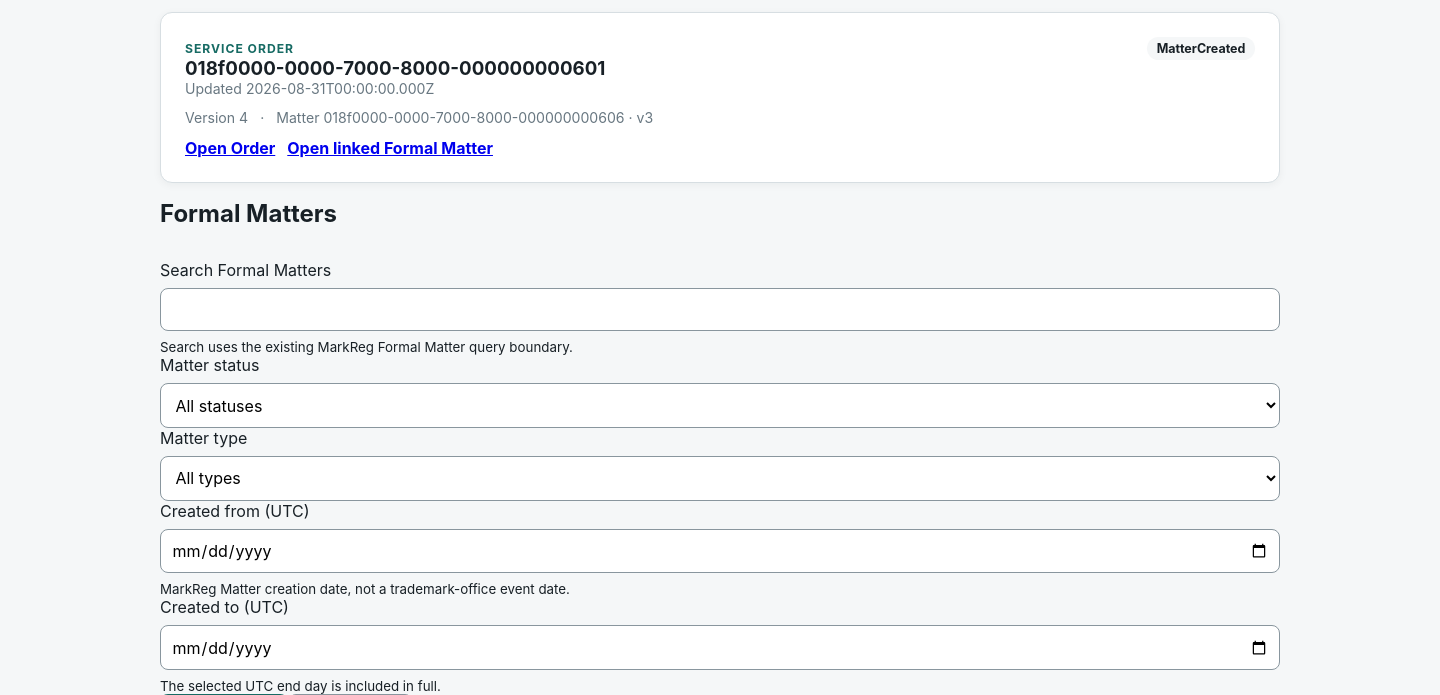
Test: MarkReg durable Workspace Home › applies bounded Matter filters without reloading Service Orders and distinguishes filtered empty
The width and height of the screenshot is (1440, 695).
(page scrolled)
Type " orbit " into the field labelled "Search Formal Matters" at (720, 310), box 160,288 -> 1280,331
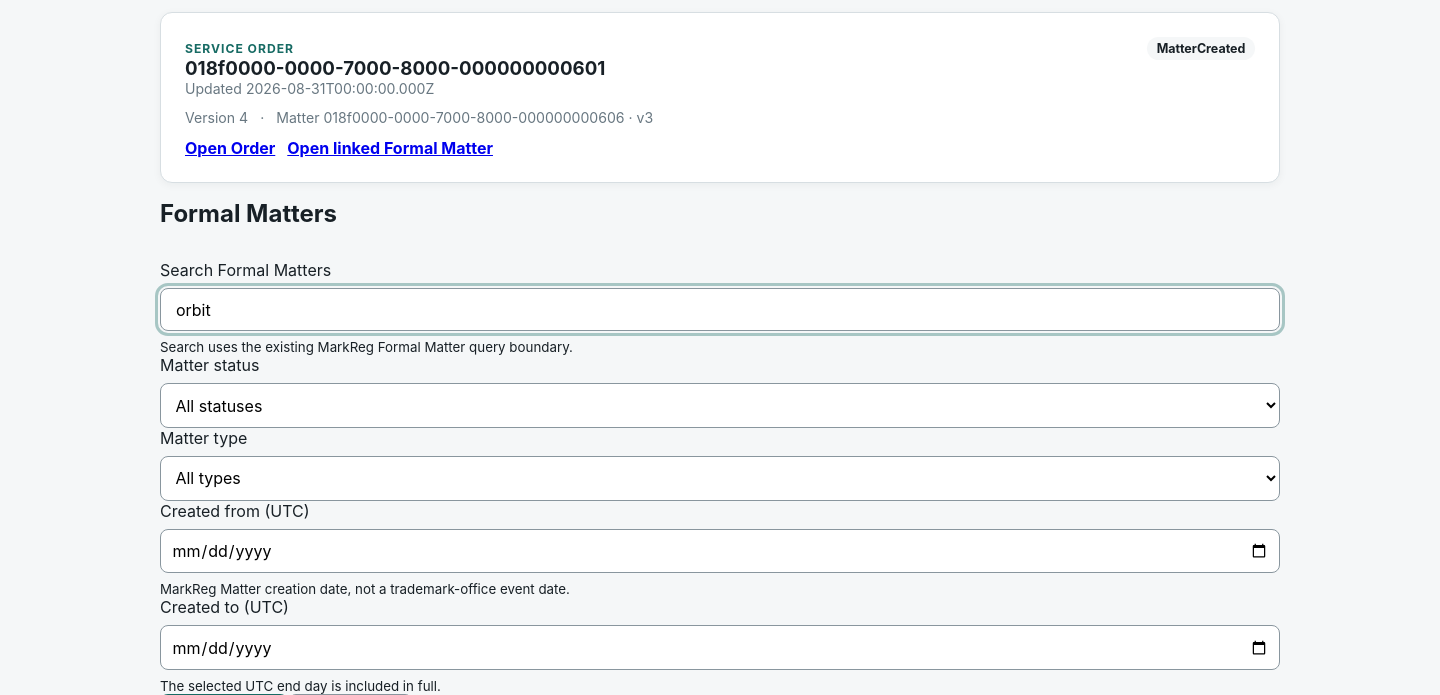
Select "Open" in the dropdown labelled "Matter status" at (720, 406), box 160,383 -> 1280,428
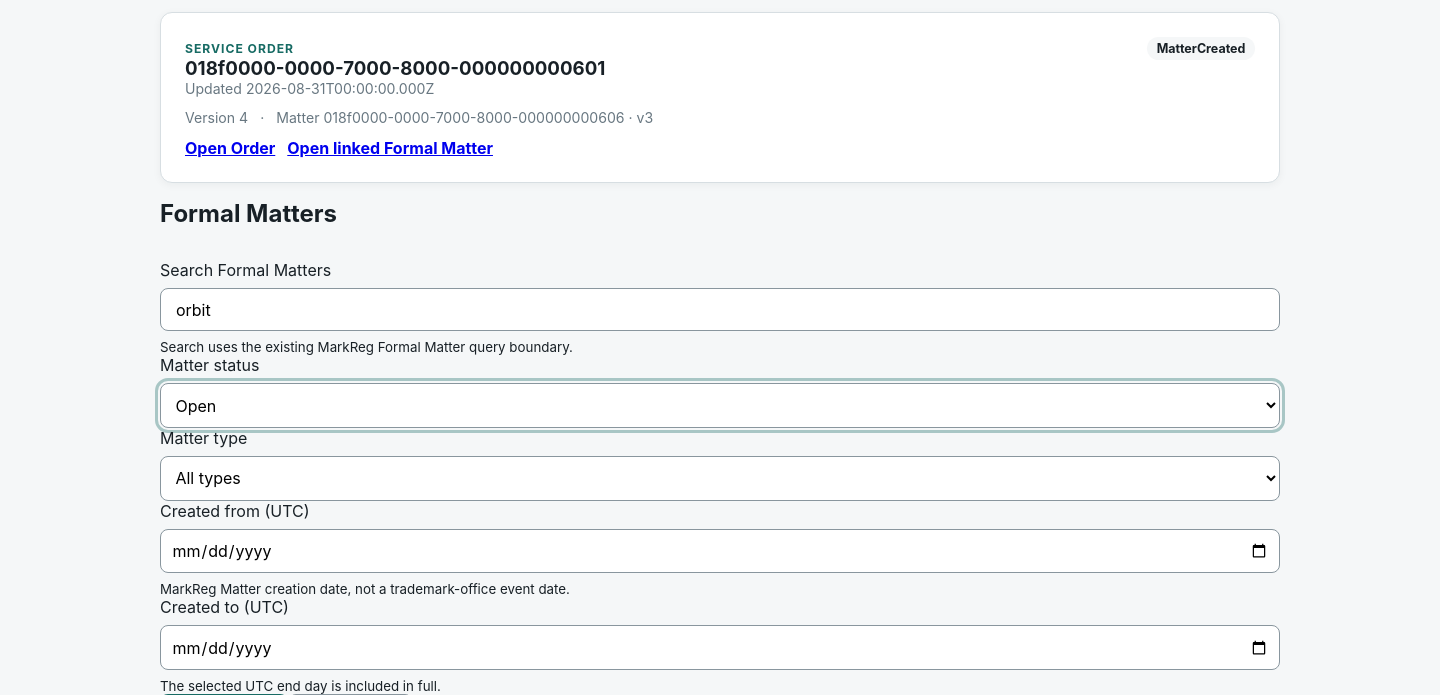
Select "Trademark registration" in the dropdown labelled "Matter type" at (720, 478), box 160,456 -> 1280,501
(page scrolled)
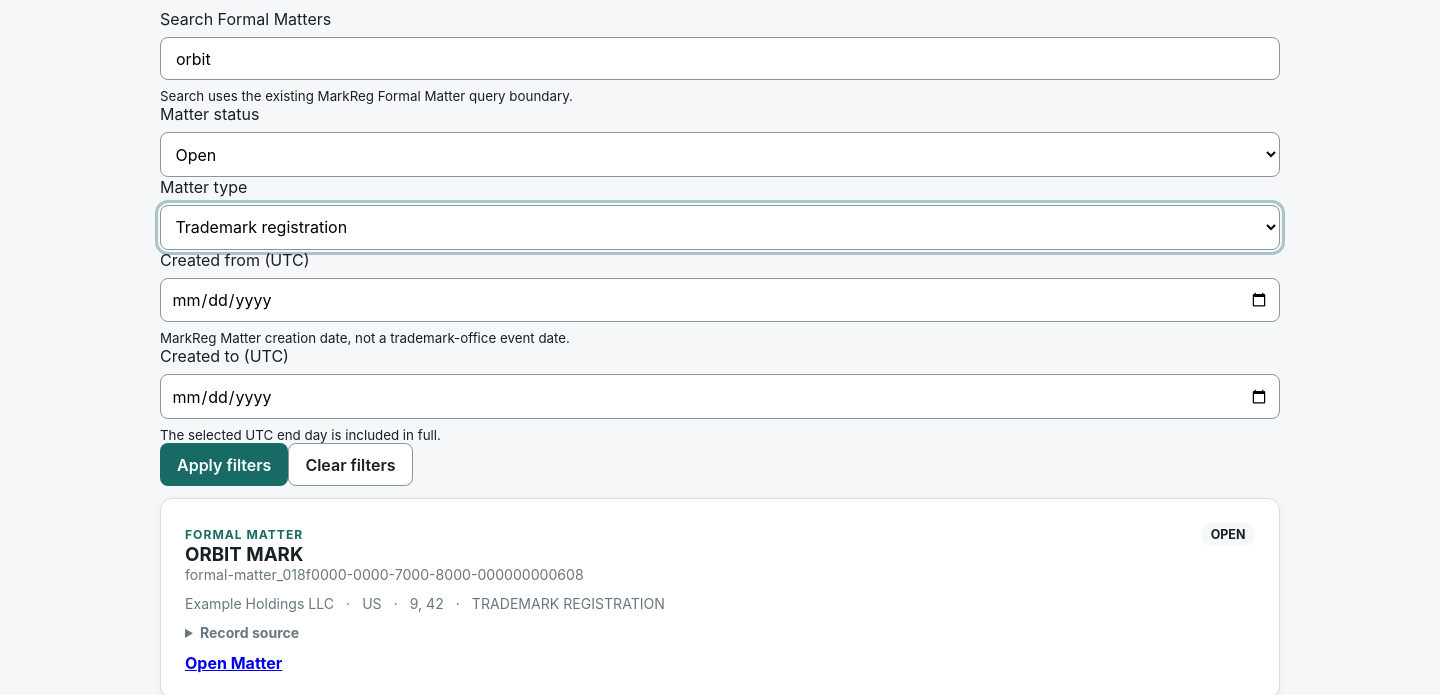
Click the button "Apply filters" at (224, 465), box 160,443 -> 288,486
(page scrolled)
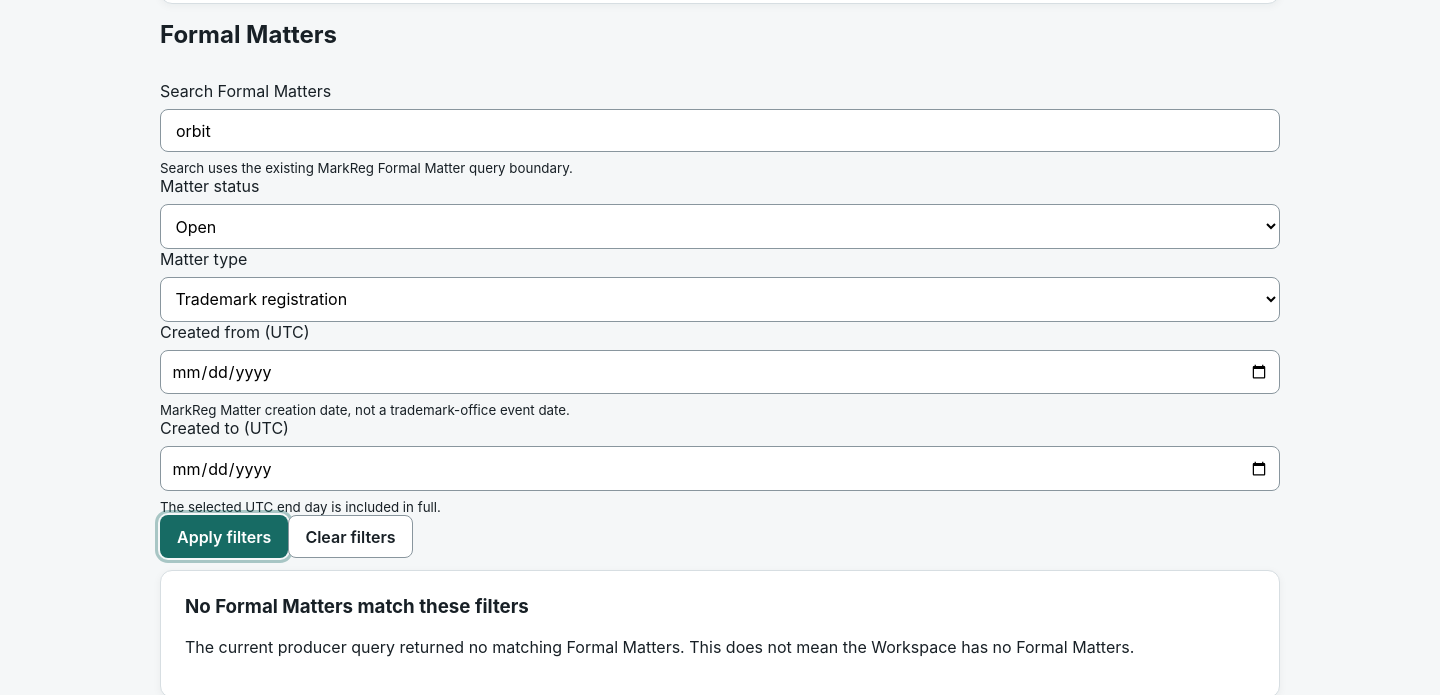
Check: the heading "No Formal Matters match these filters" is shown, box 185,595 -> 529,618
Click the button "Clear filters" at (350, 537), box 288,515 -> 413,558
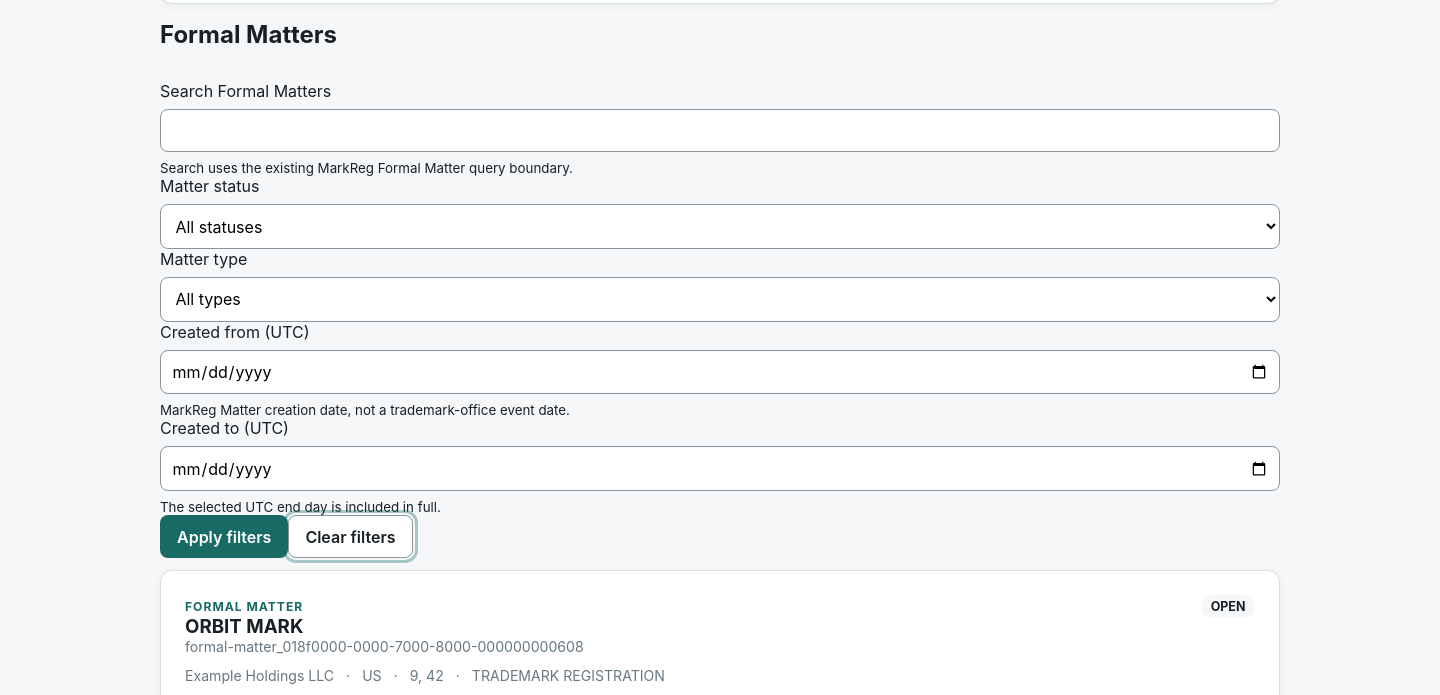
Check: the text "formal-matter_018f0000-0000-7000-8000-000000000608" is shown, box 185,638 -> 584,655
